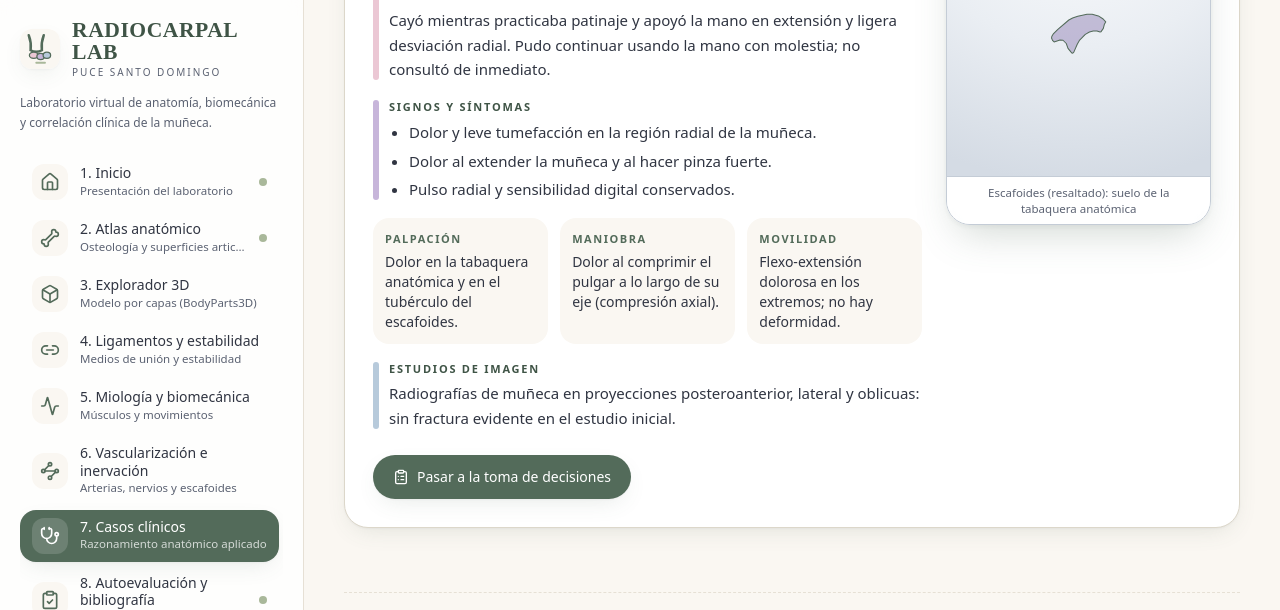
navegación y módulos › caso clínico: la explicación no se ve antes de responder
(page scrolled)
Click the button "Pasar a la toma de decisiones" at (502, 477), box [373,455,631,499]
(page scrolled)
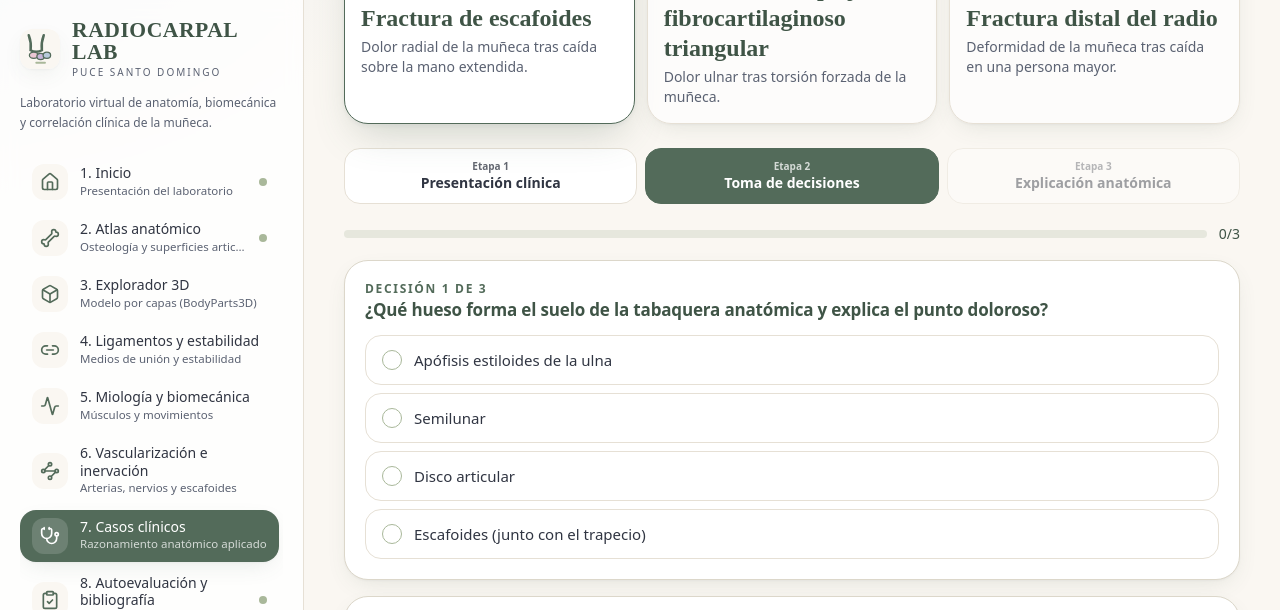
Click the button "Apófisis estiloides de la ulna" at (513, 360), box [365,336,1219,386]
(page scrolled)
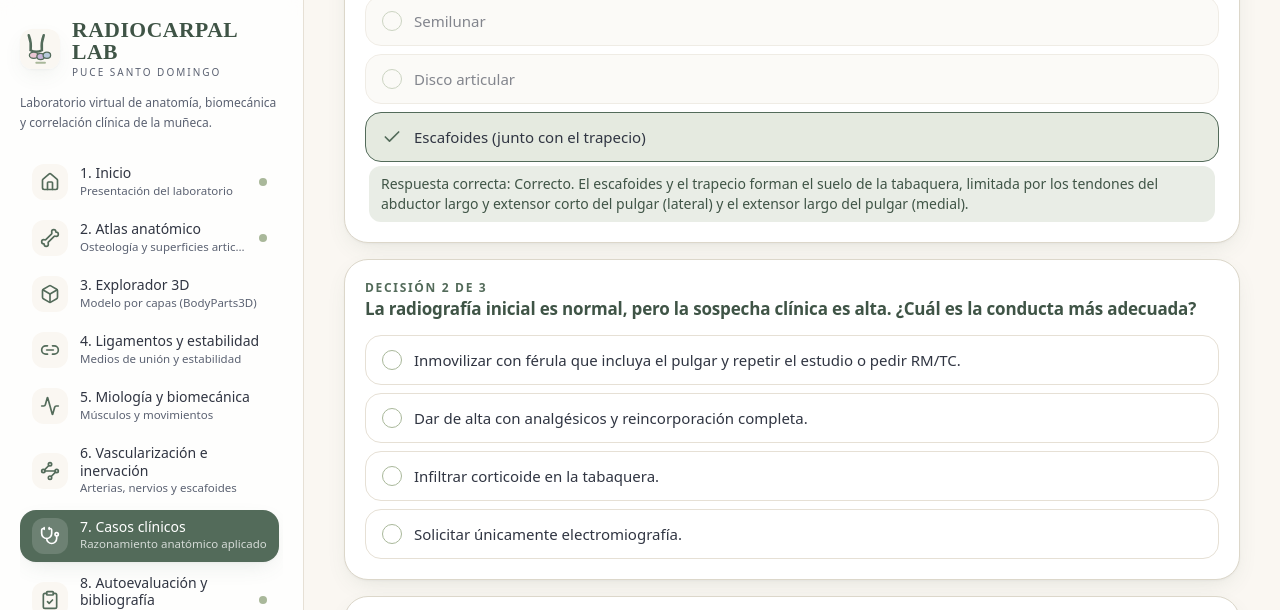
Click the 4th button at (792, 360), box [365,335,1219,385]
(page scrolled)
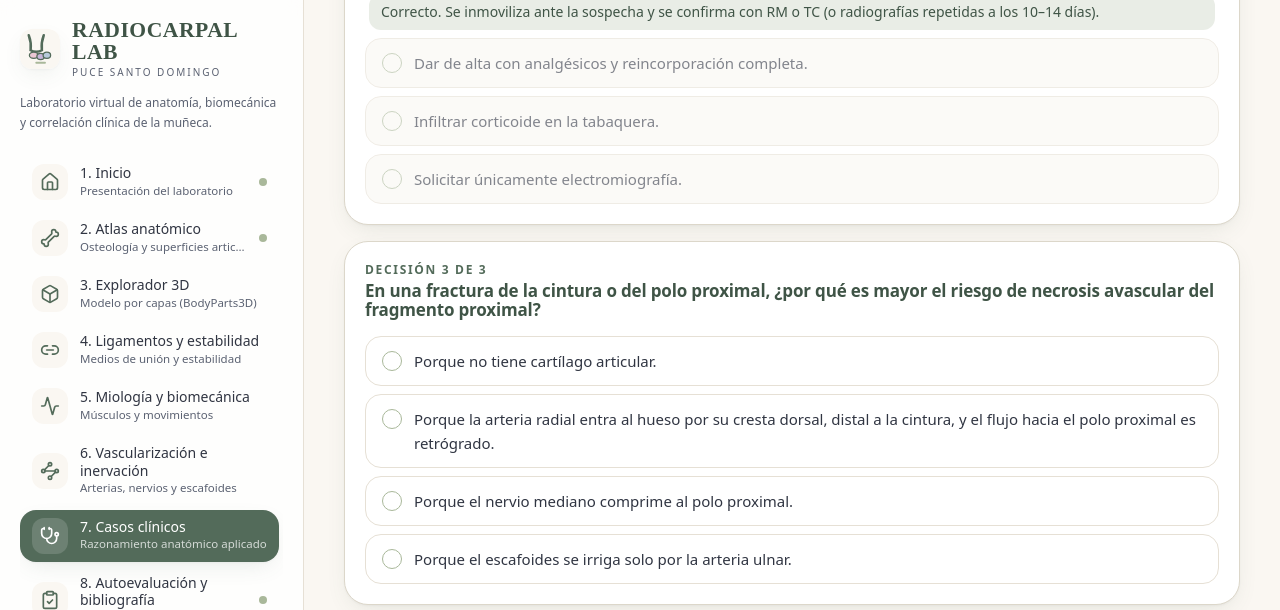
Click the button "Porque no tiene cartílago articular." at (535, 361), box [365,336,1219,386]
(page scrolled)
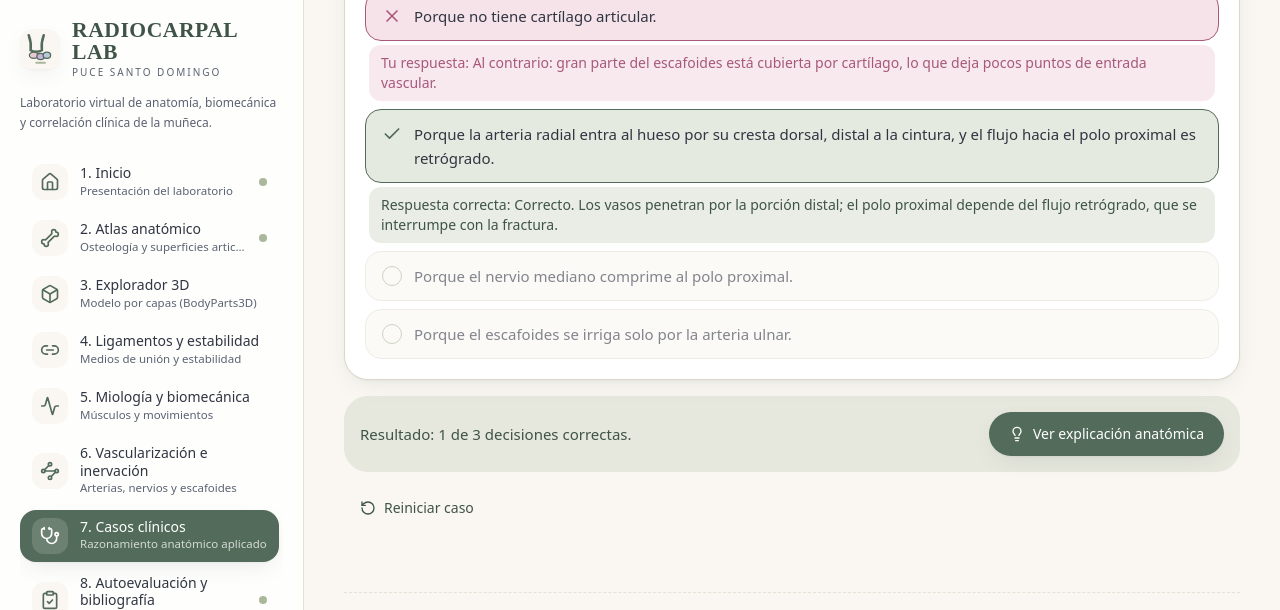
Click the button "Ver explicación anatómica" at (1106, 434), box [989,412,1224,456]
(page scrolled)
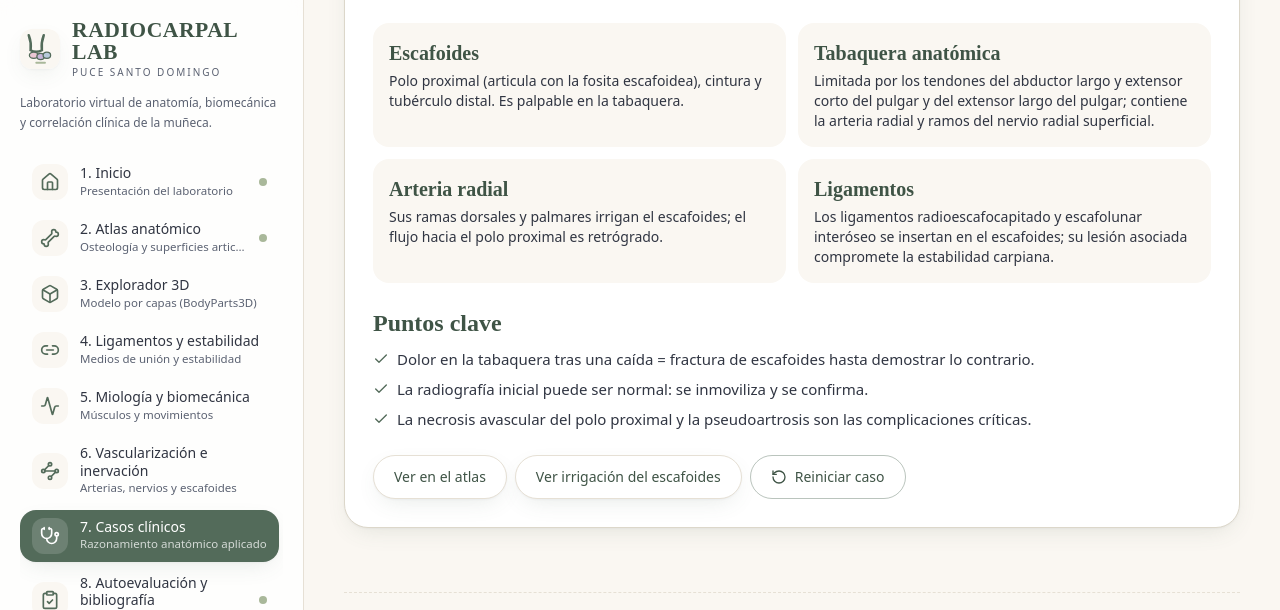
Click the button "Reiniciar caso" at (828, 477), box [750,455,906,499]
(page scrolled)
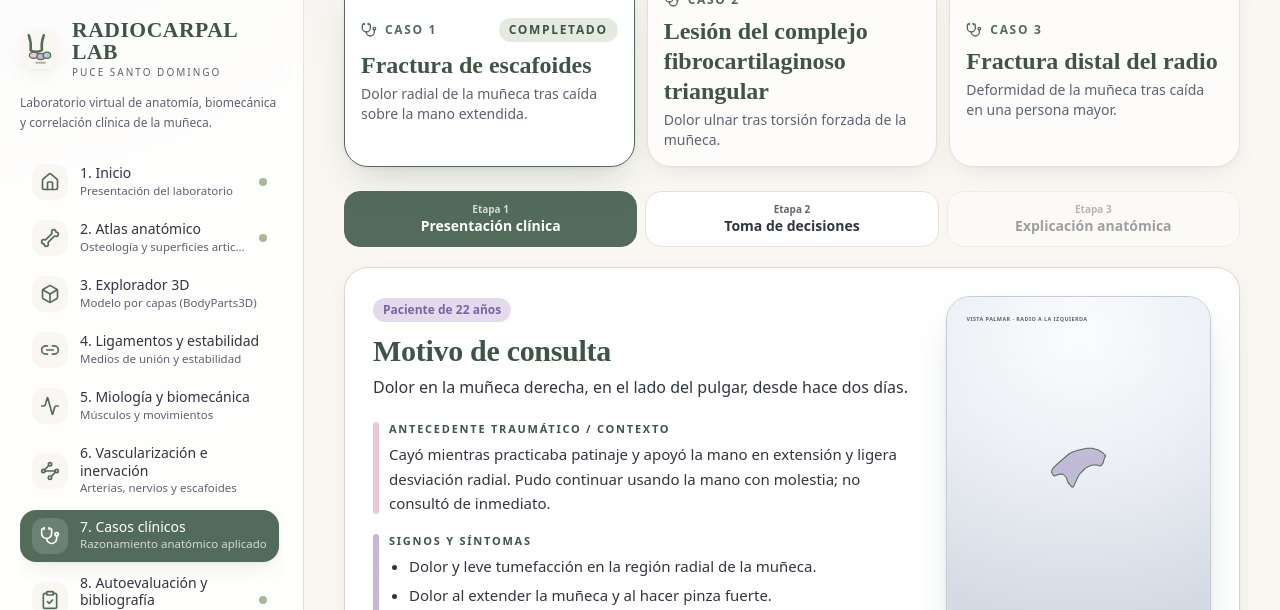
Now the heading "Motivo de consulta" is shown, box [373,334,611,367]
